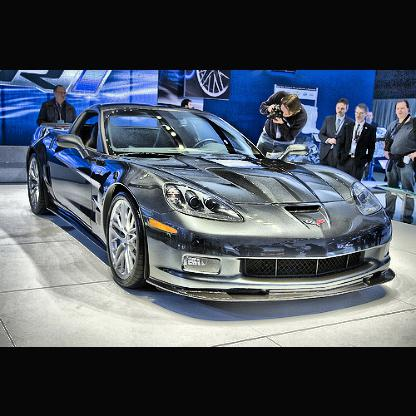Chevrolet Corvette ZR1 2012: (25, 99, 398, 308)
